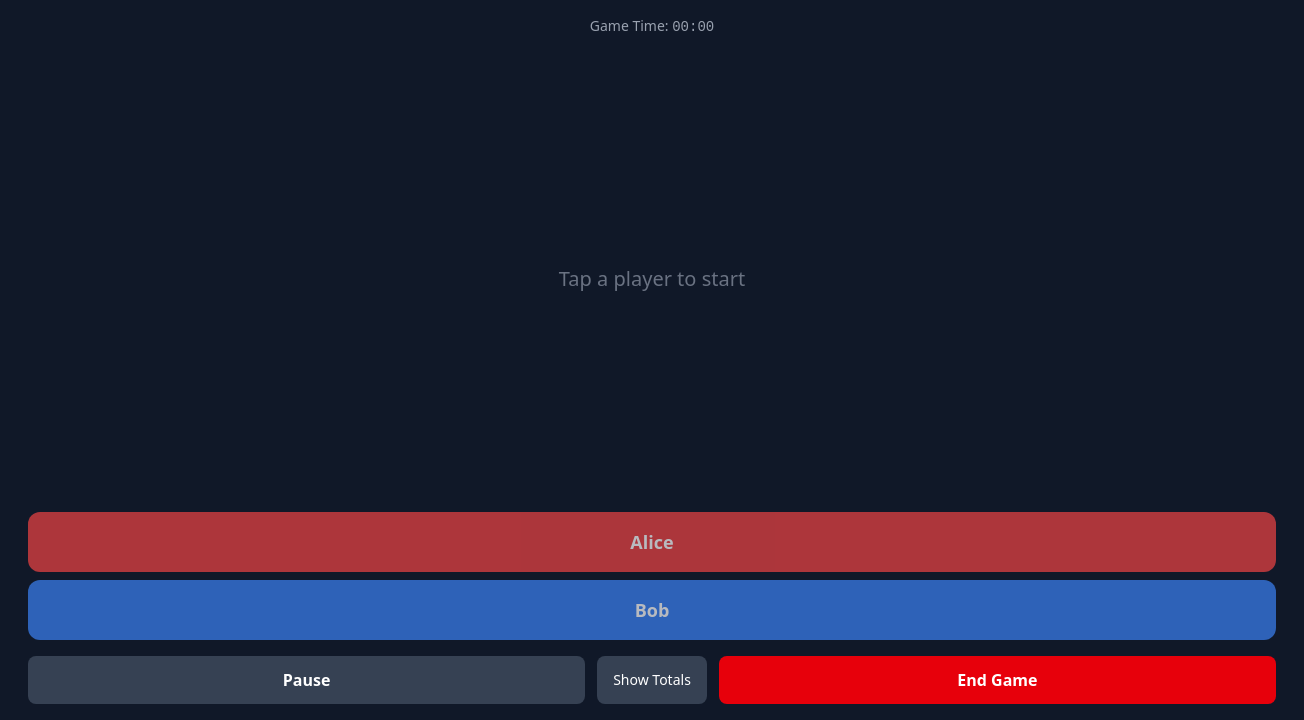
Test case: GamePage › highlights active player when zone is tapped
This screenshot has width=1304, height=720.
Step 1. Click the button "Alice" → (652,542), box x1=28 y1=512 x2=1276 y2=572
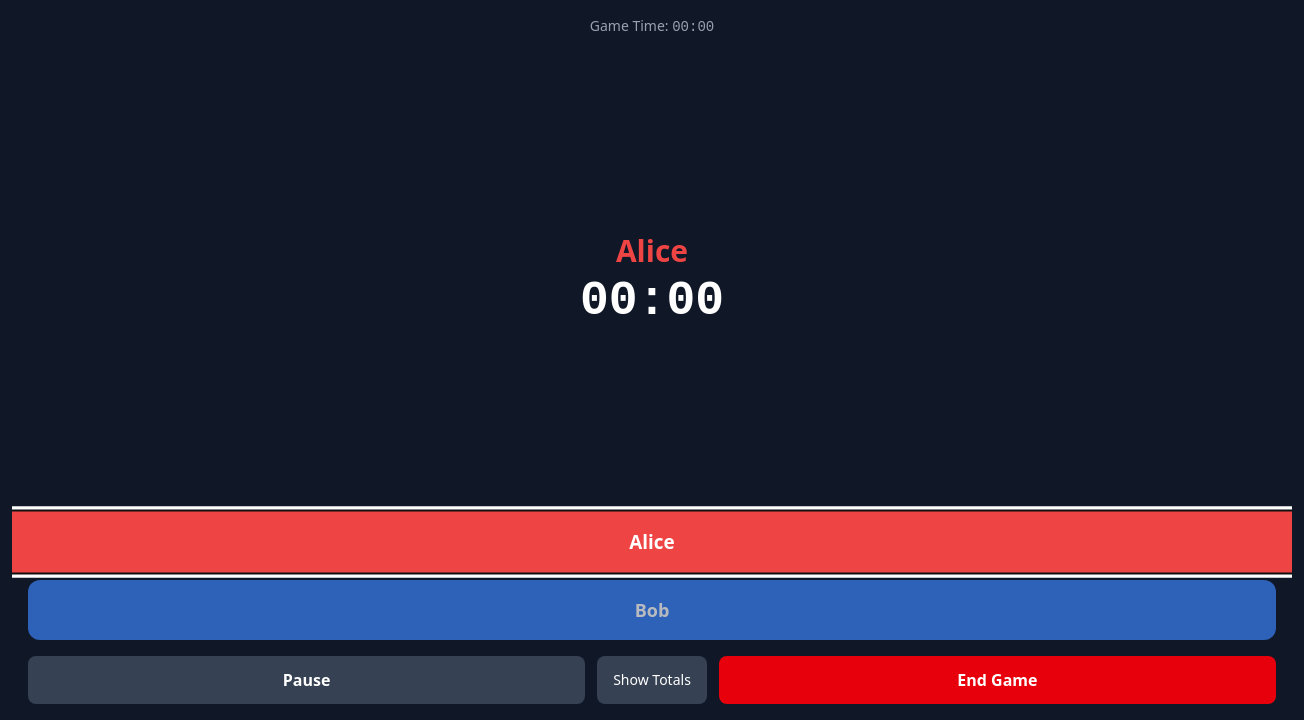
Expected: the text with test id "active-player-name" reads "Alice", x1=616 y1=230 x2=688 y2=270
